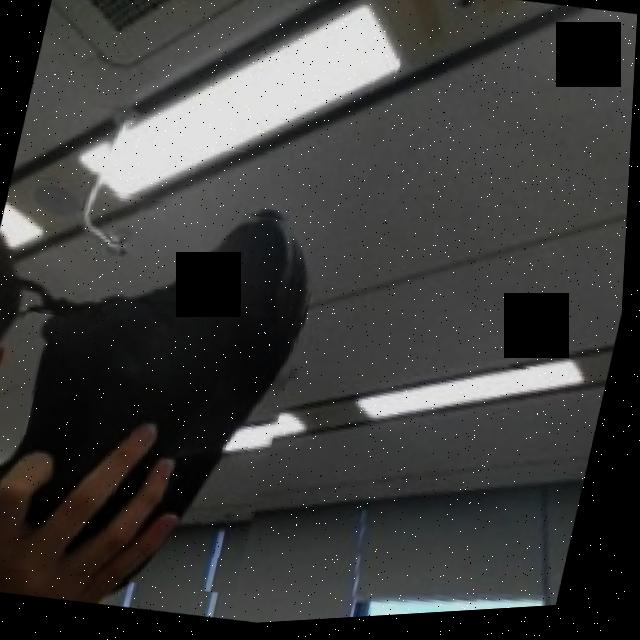shoe: (0, 171, 332, 611)
